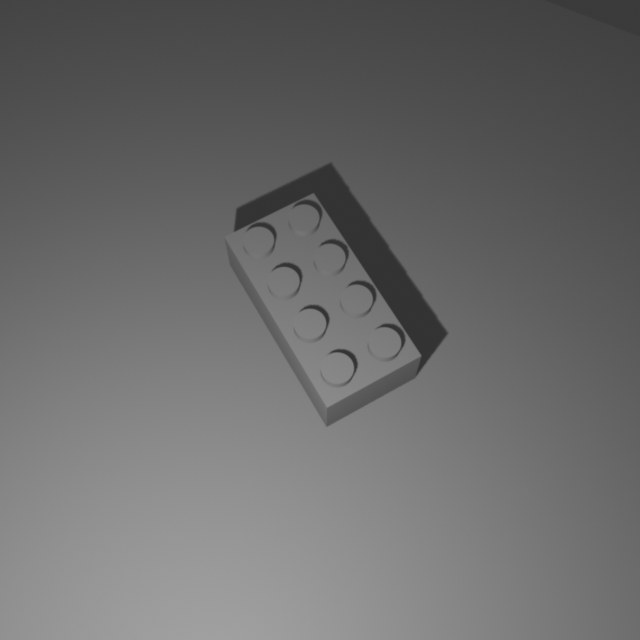lego_2x4: (223, 188, 423, 427)
